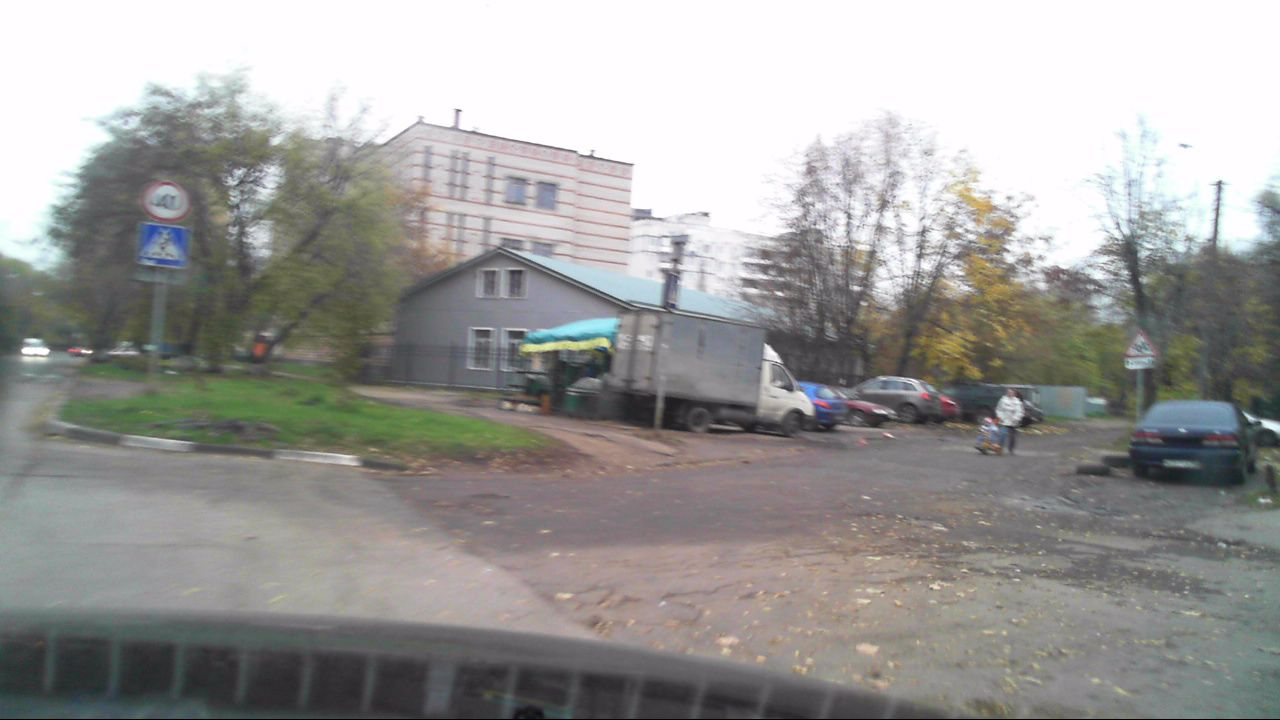speed_warning_40: (144, 183, 186, 223)
